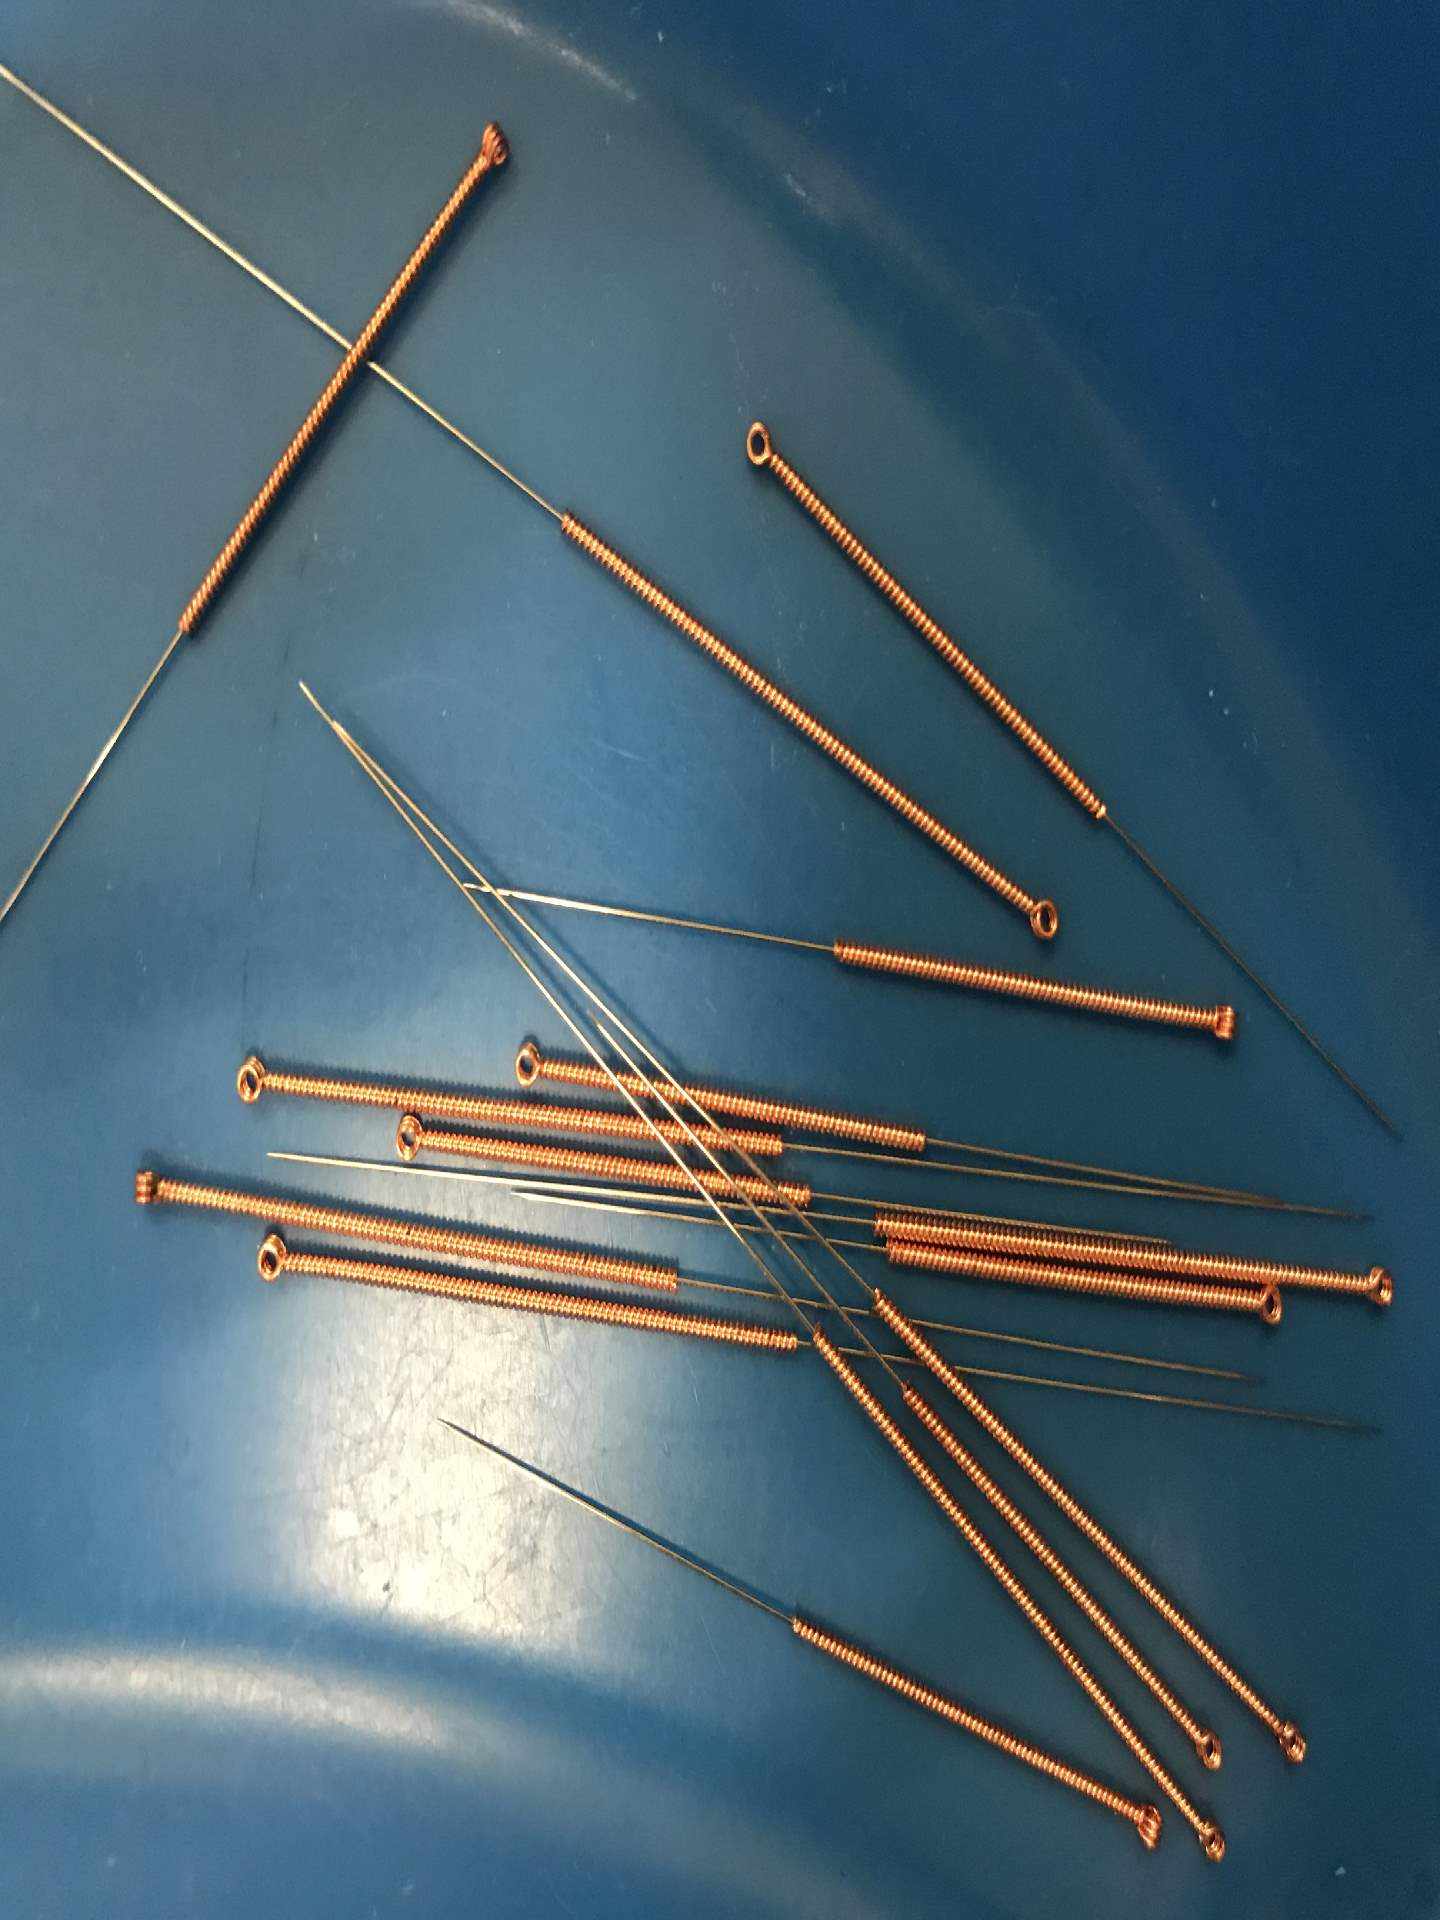needle: (725, 405, 797, 488), (997, 872, 1071, 949), (1337, 1250, 1413, 1324), (112, 1154, 183, 1229), (219, 1040, 287, 1119), (239, 1226, 309, 1300), (457, 110, 522, 189), (1181, 989, 1254, 1055), (1258, 1699, 1321, 1776), (1174, 1801, 1237, 1875), (501, 1030, 564, 1095), (1224, 1281, 1299, 1335), (1172, 1714, 1234, 1779), (1109, 1796, 1171, 1860), (381, 1111, 439, 1166)
